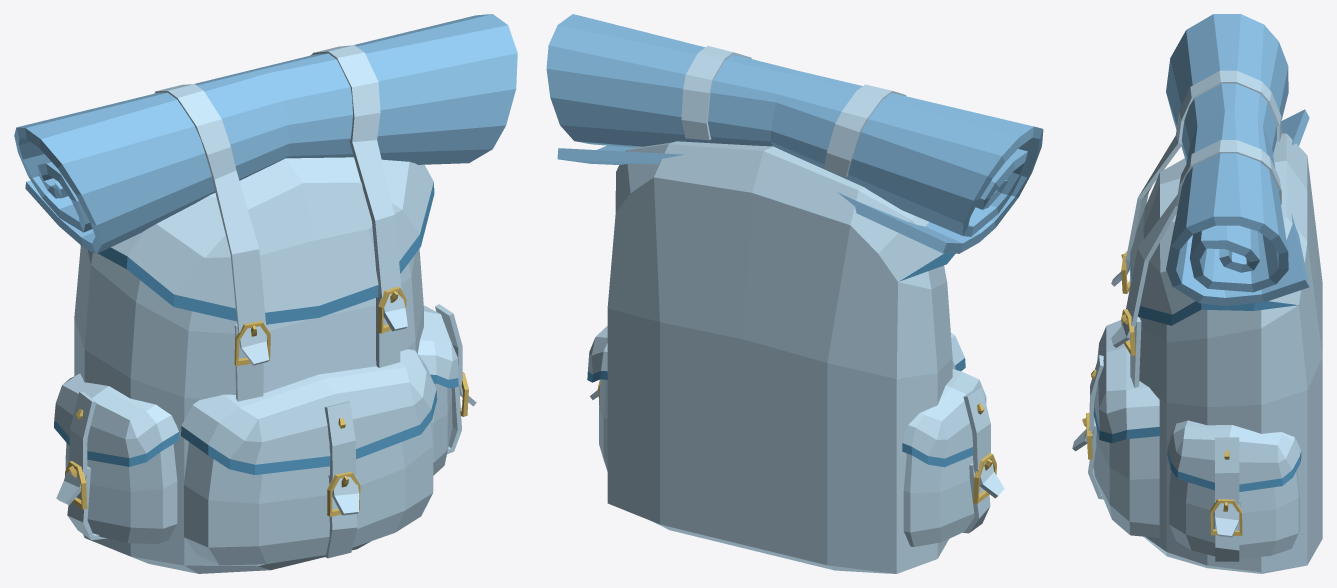
File: prop-pack.glb
3 views of the same model, side by side, from view 1: azimuth 30°, elevation 25°; view 2: azimuth 150°, elevation 25°; view 3: azimuth 270°, elevation 25° (orthographic). The views are drawn at different scales.
Visible parts, largest first — view 1: Backpack; view 2: Backpack; view 3: Backpack.
Boxes of the visible parts, x1,y1,x2,y2 form: Backpack: (14,14,517,573); Backpack: (546,14,1043,573); Backpack: (1072,14,1322,573).
Bounding box in the file's own units: 3.34 × 3.12 × 1.75.
